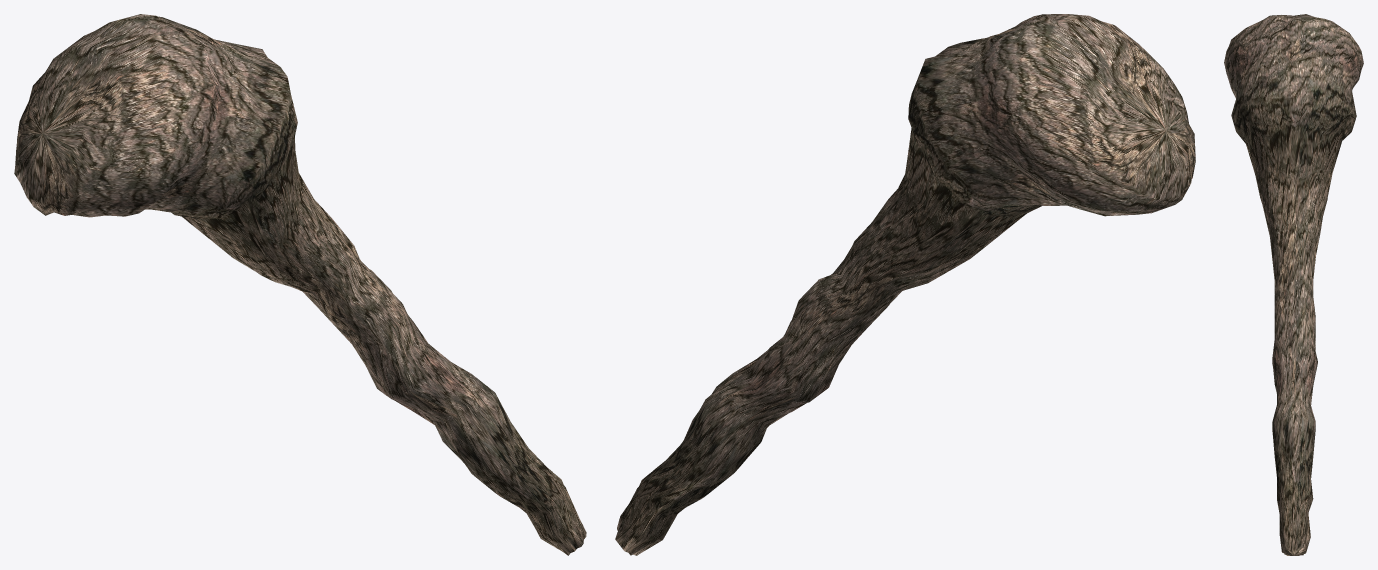
File: WarriorIndianGirlWeapon.fbx
3 views of the same model, side by side, from view 1: azimuth 30°, elevation 25°; view 2: azimuth 150°, elevation 25°; view 3: azimuth 270°, elevation 25° (orthographic). The views are drawn at different scales.
Visible parts, largest first — view 1: prim1; view 2: prim1; view 3: prim1.
Boxes of the visible parts, bbox=[...] form: prim1: bbox=[14, 14, 586, 555]; prim1: bbox=[615, 14, 1195, 555]; prim1: bbox=[1224, 14, 1363, 555].
Size of the model in its own units: 33.95 by 36.7 by 11.37.
